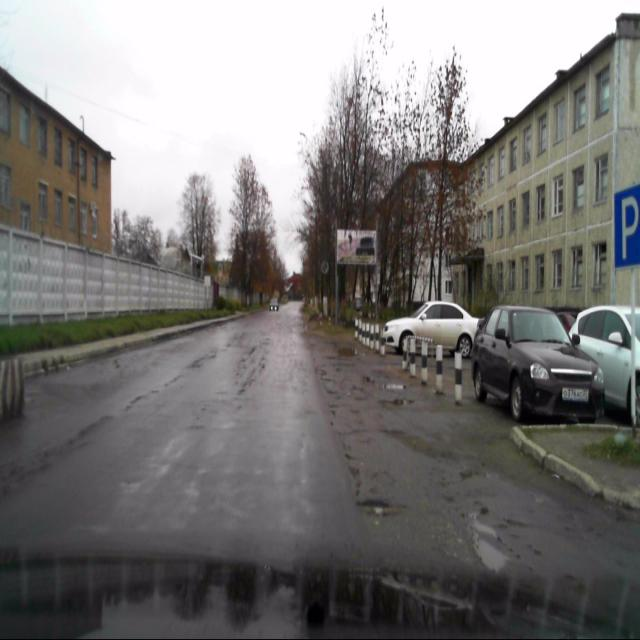road sign: (614, 182, 640, 267)
